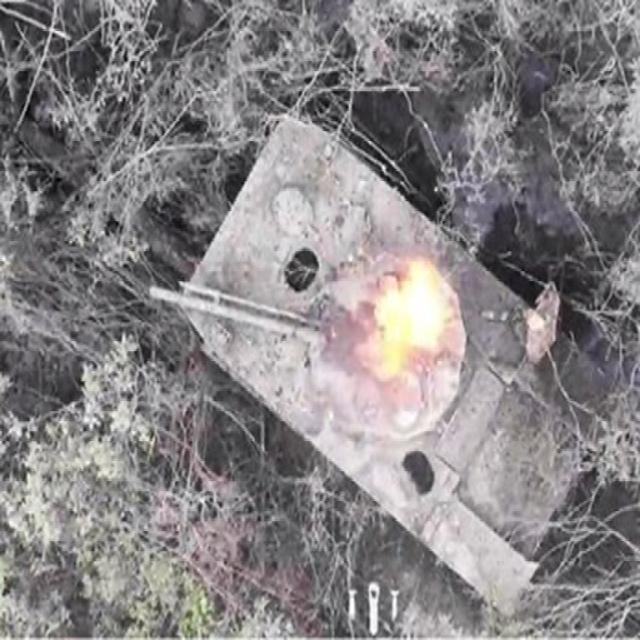APC-IFV: (146, 107, 610, 620)
